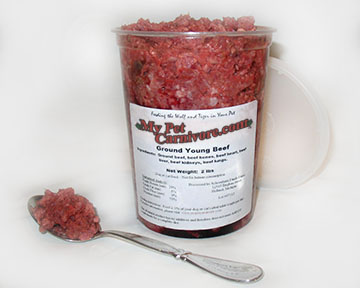ground_beef: (82, 9, 277, 263)
